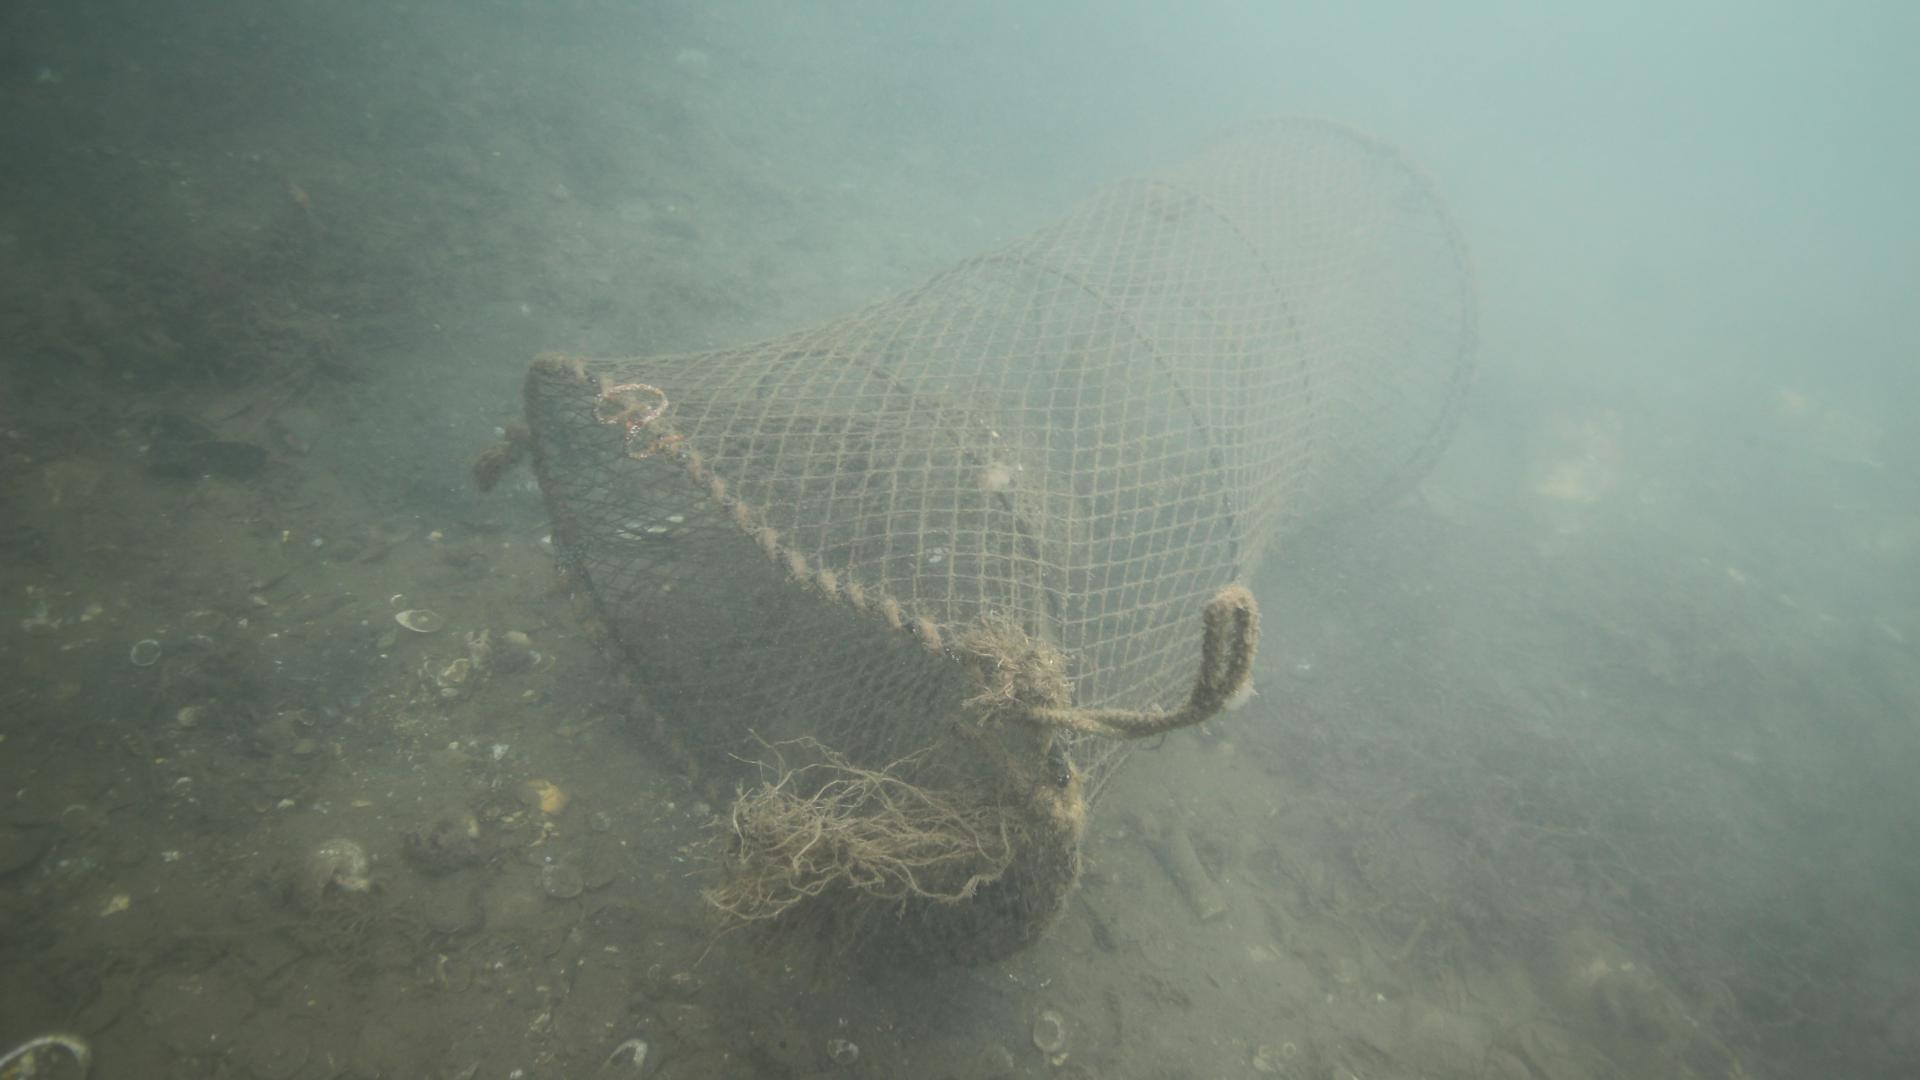bundle of ropes: (1044, 578, 1266, 746)
spring fish trap: (527, 115, 1474, 972)
